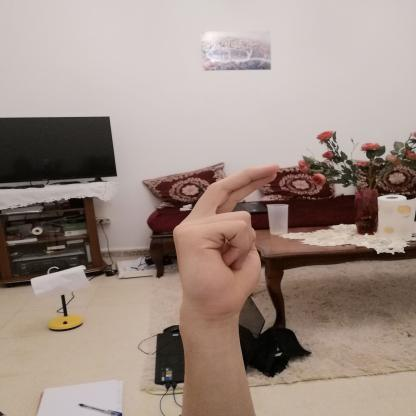ZAY: (162, 157, 293, 324)
